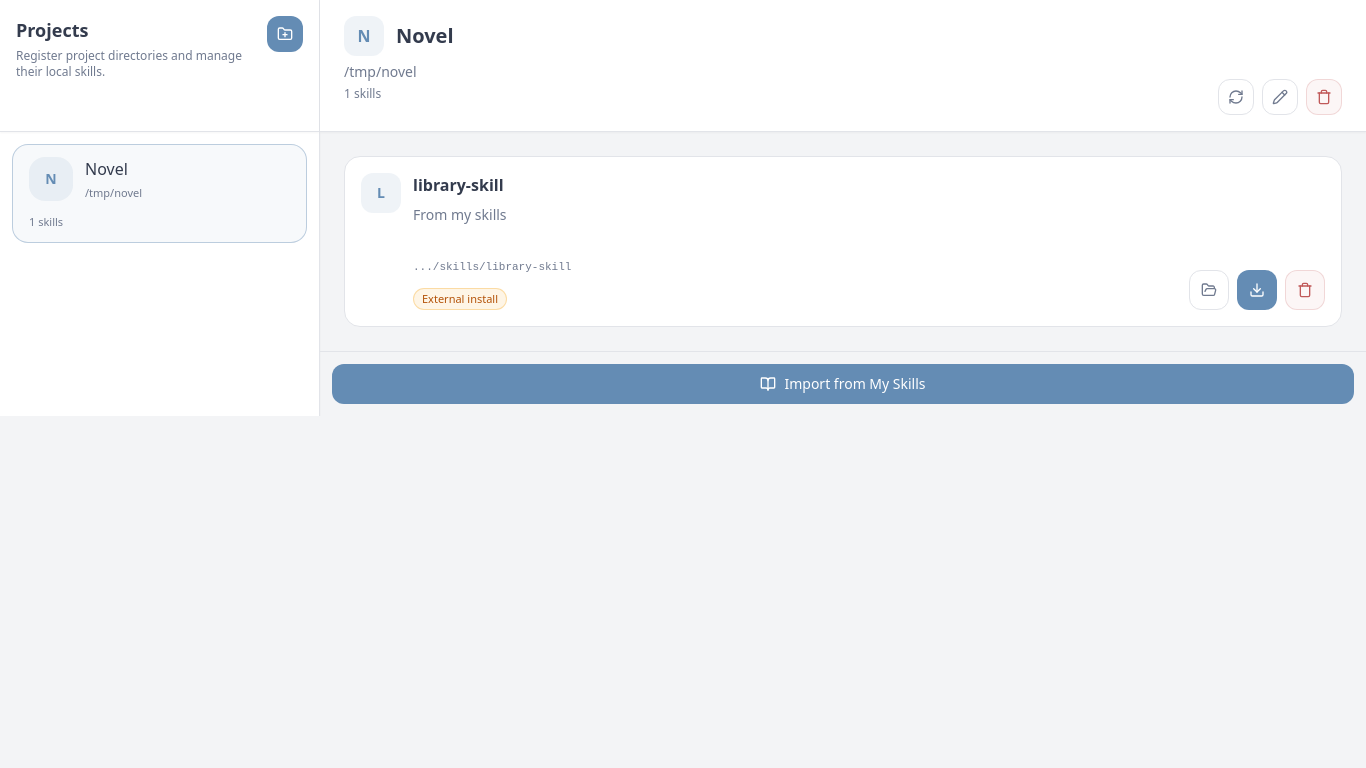
SkillProjectsView › marks library skills already present in the selected project target
What coordinates should you click on to do the following:
click the button "Import from My Skills"
I would click on:
 (843, 384)
Its box is [332, 364, 1354, 404].
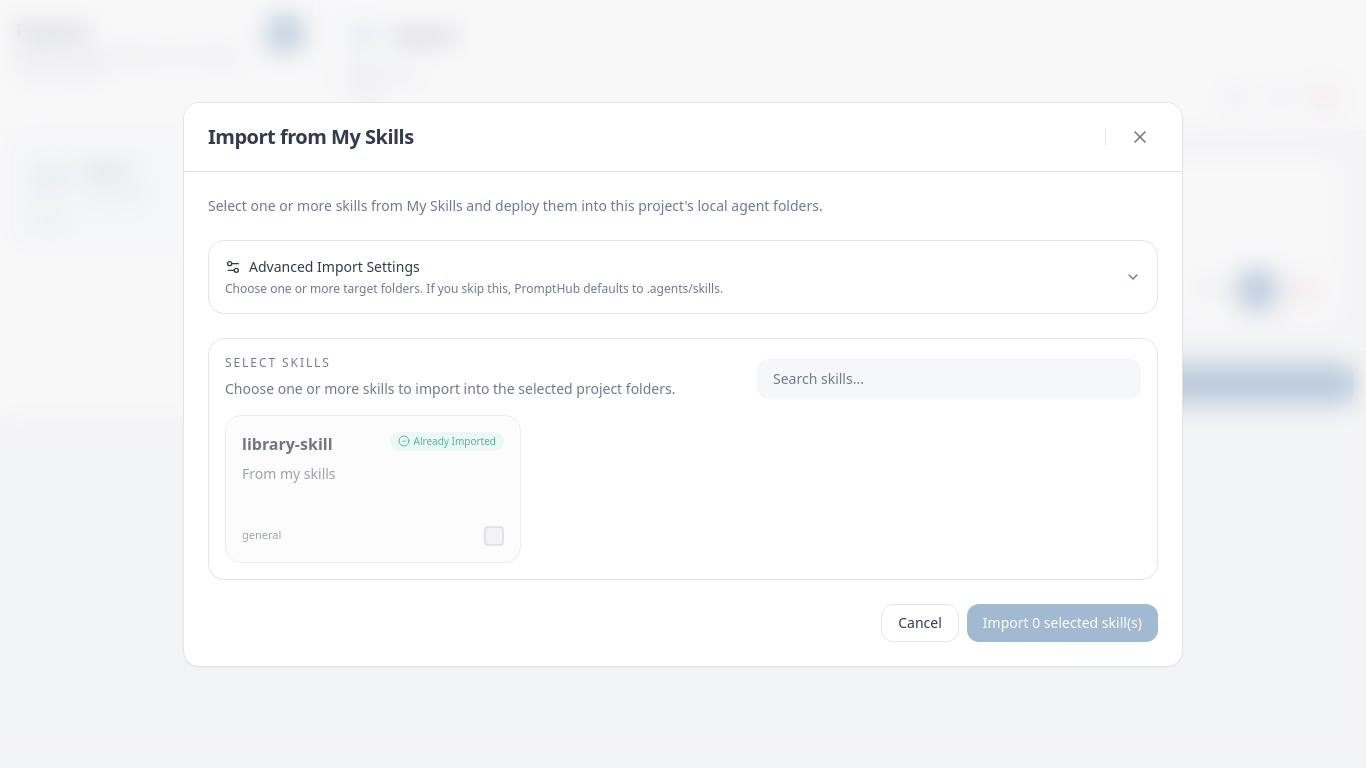
Expected: the text "Already Imported" is shown, [390, 432, 504, 450]
Expected: the button "Import 0 selected skill(s)" is disabled, [967, 604, 1158, 642]
